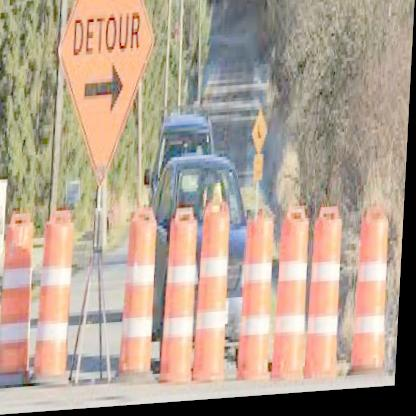obstacle: (195, 189, 237, 391), (162, 210, 205, 399), (276, 207, 318, 396), (306, 205, 348, 387), (38, 204, 79, 390), (0, 200, 41, 383), (238, 219, 281, 388), (357, 218, 397, 394), (125, 206, 160, 395)
